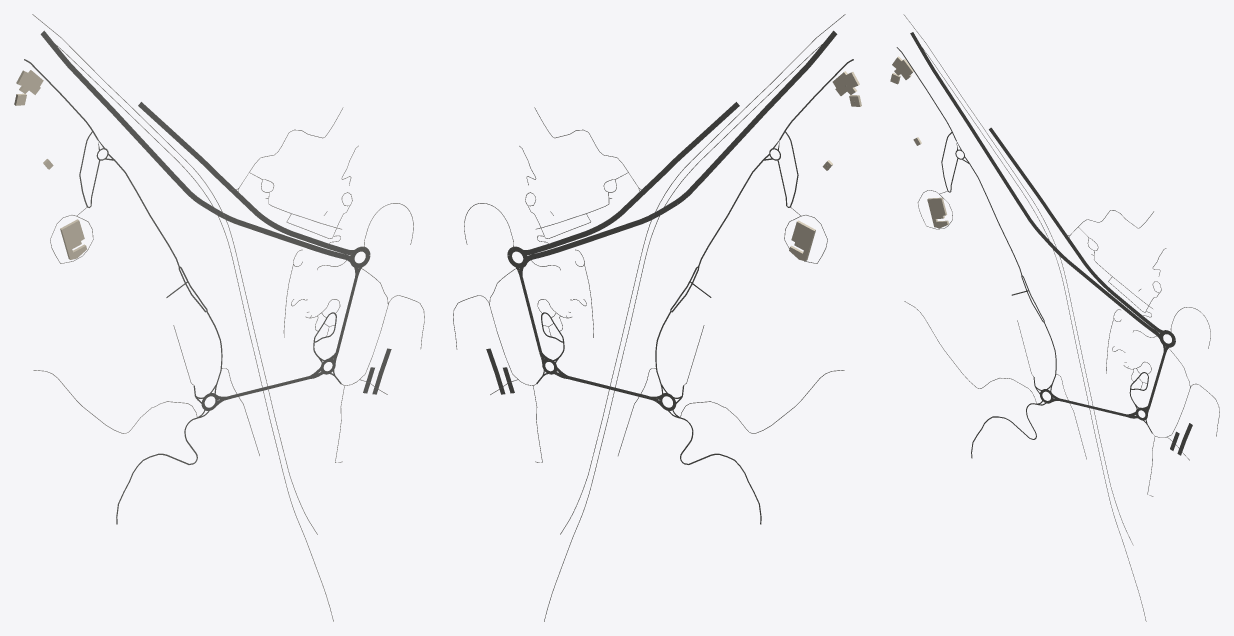
Rendered from historic-palestine-09_33_3509_3272.glb.
3 renders of one model, left to right at view 1: azimuth 30°, elevation 25°; view 2: azimuth 150°, elevation 25°; view 3: azimuth 330°, elevation 25°, orthographic. The views are drawn at different scales.
Visible parts, largest first — view 1: Road דרך העמקים.006, Road .025, Road דרך העמקים.002, Building_.003, Road .040, Road דרך העמקים; view 2: Road דרך העמקים.006, Road דרך העמקים.002, Road .025, Road .040, Building_.003, Road דרך העמקים; view 3: Road דרך העמקים.006, Road .025, Road .040, Road דרך העמקים.002, Building_.003.
Boxes of the visible parts, x1=… form: Road דרך העמקים.006: x1=138, y1=102, x2=293, y2=235; Road .025: x1=47, y1=37, x2=333, y2=621; Road דרך העמקים.002: x1=111, y1=109, x2=202, y2=204; Building_.003: x1=60, y1=219, x2=86, y2=259; Road .040: x1=32, y1=14, x2=317, y2=534; Road דרך העמקים: x1=40, y1=30, x2=114, y2=112; Road דרך העמקים.006: x1=584, y1=102, x2=739, y2=235; Road דרך העמקים.002: x1=675, y1=109, x2=766, y2=204; Road .025: x1=544, y1=35, x2=831, y2=621; Road .040: x1=560, y1=14, x2=845, y2=534; Building_.003: x1=789, y1=220, x2=815, y2=261; Road דרך העמקים: x1=763, y1=30, x2=837, y2=112; Road דרך העמקים.006: x1=989, y1=127, x2=1113, y2=294; Road .025: x1=913, y1=35, x2=1146, y2=621; Road .040: x1=903, y1=14, x2=1133, y2=545; Road דרך העמקים.002: x1=967, y1=123, x2=1040, y2=233; Building_.003: x1=927, y1=197, x2=948, y2=228.
Bounding box in the file's own units: 1048 × 1669 × 8.7.
